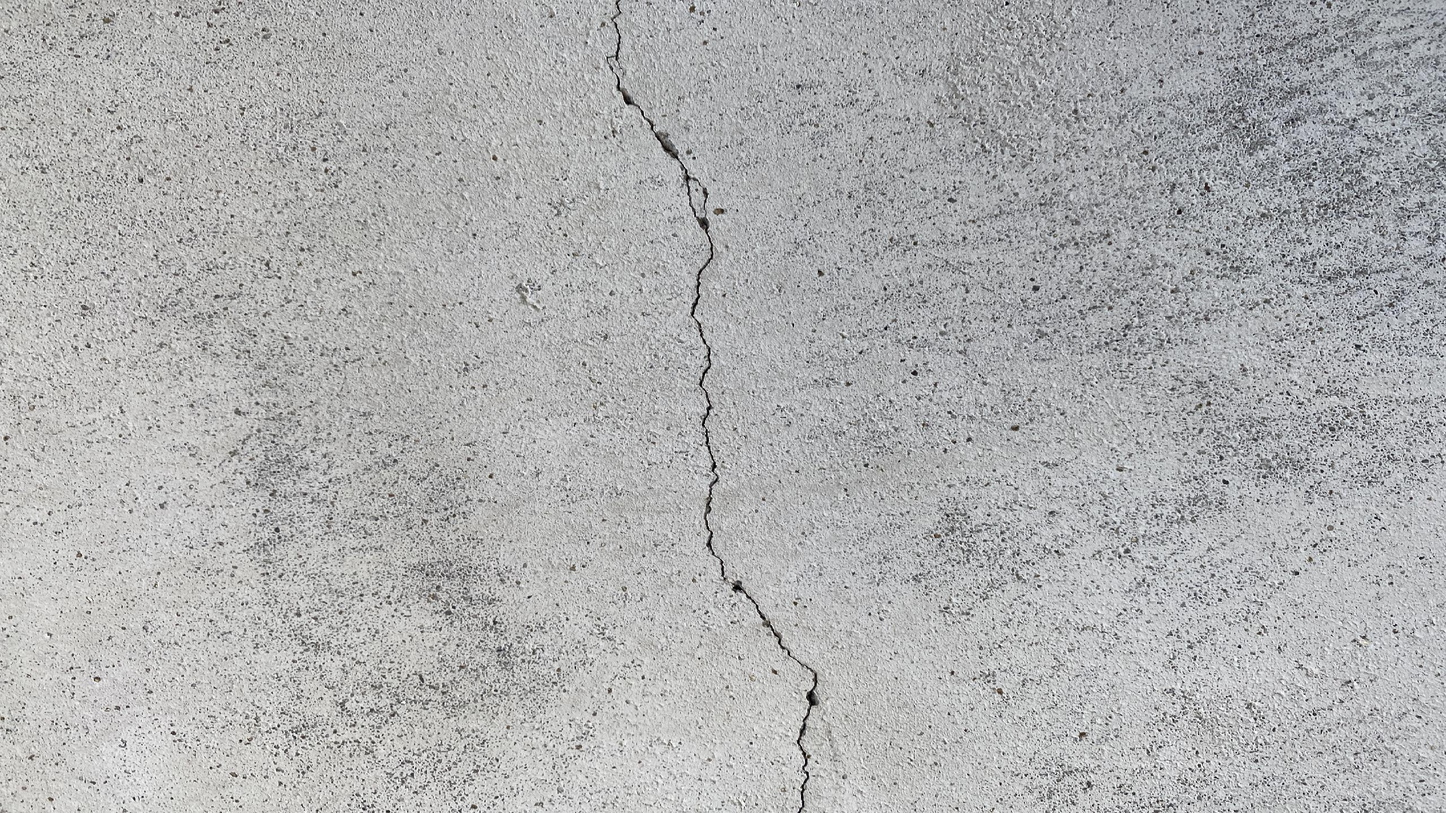crack: (606, 2, 820, 812)
